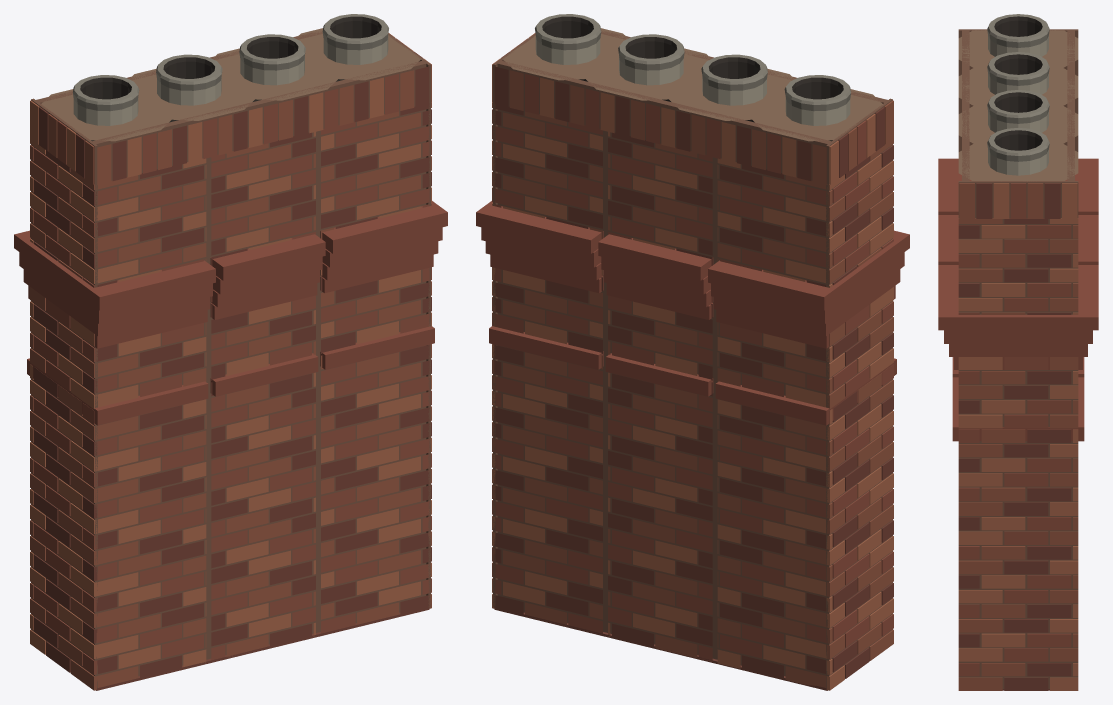
File: changning-wuyi-234-four-flue-chimney-lod.glb
3 renders of one model, left to right at view 1: azimuth 30°, elevation 25°; view 2: azimuth 150°, elevation 25°; view 3: azimuth 270°, elevation 25°, orthographic. The views are drawn at different scales.
Parts seen in each view (by area): view 1: 武夷路234号住宅中央屋坡四孔砖烟囱; view 2: 武夷路234号住宅中央屋坡四孔砖烟囱; view 3: 武夷路234号住宅中央屋坡四孔砖烟囱.
Part boxes in pixels (left/top/right/bottom): 武夷路234号住宅中央屋坡四孔砖烟囱: left=14, top=14, right=447, bottom=690; 武夷路234号住宅中央屋坡四孔砖烟囱: left=476, top=14, right=909, bottom=690; 武夷路234号住宅中央屋坡四孔砖烟囱: left=938, top=14, right=1098, bottom=690.
Size of the model in its own units: 1.72 by 2.69 by 0.736.
